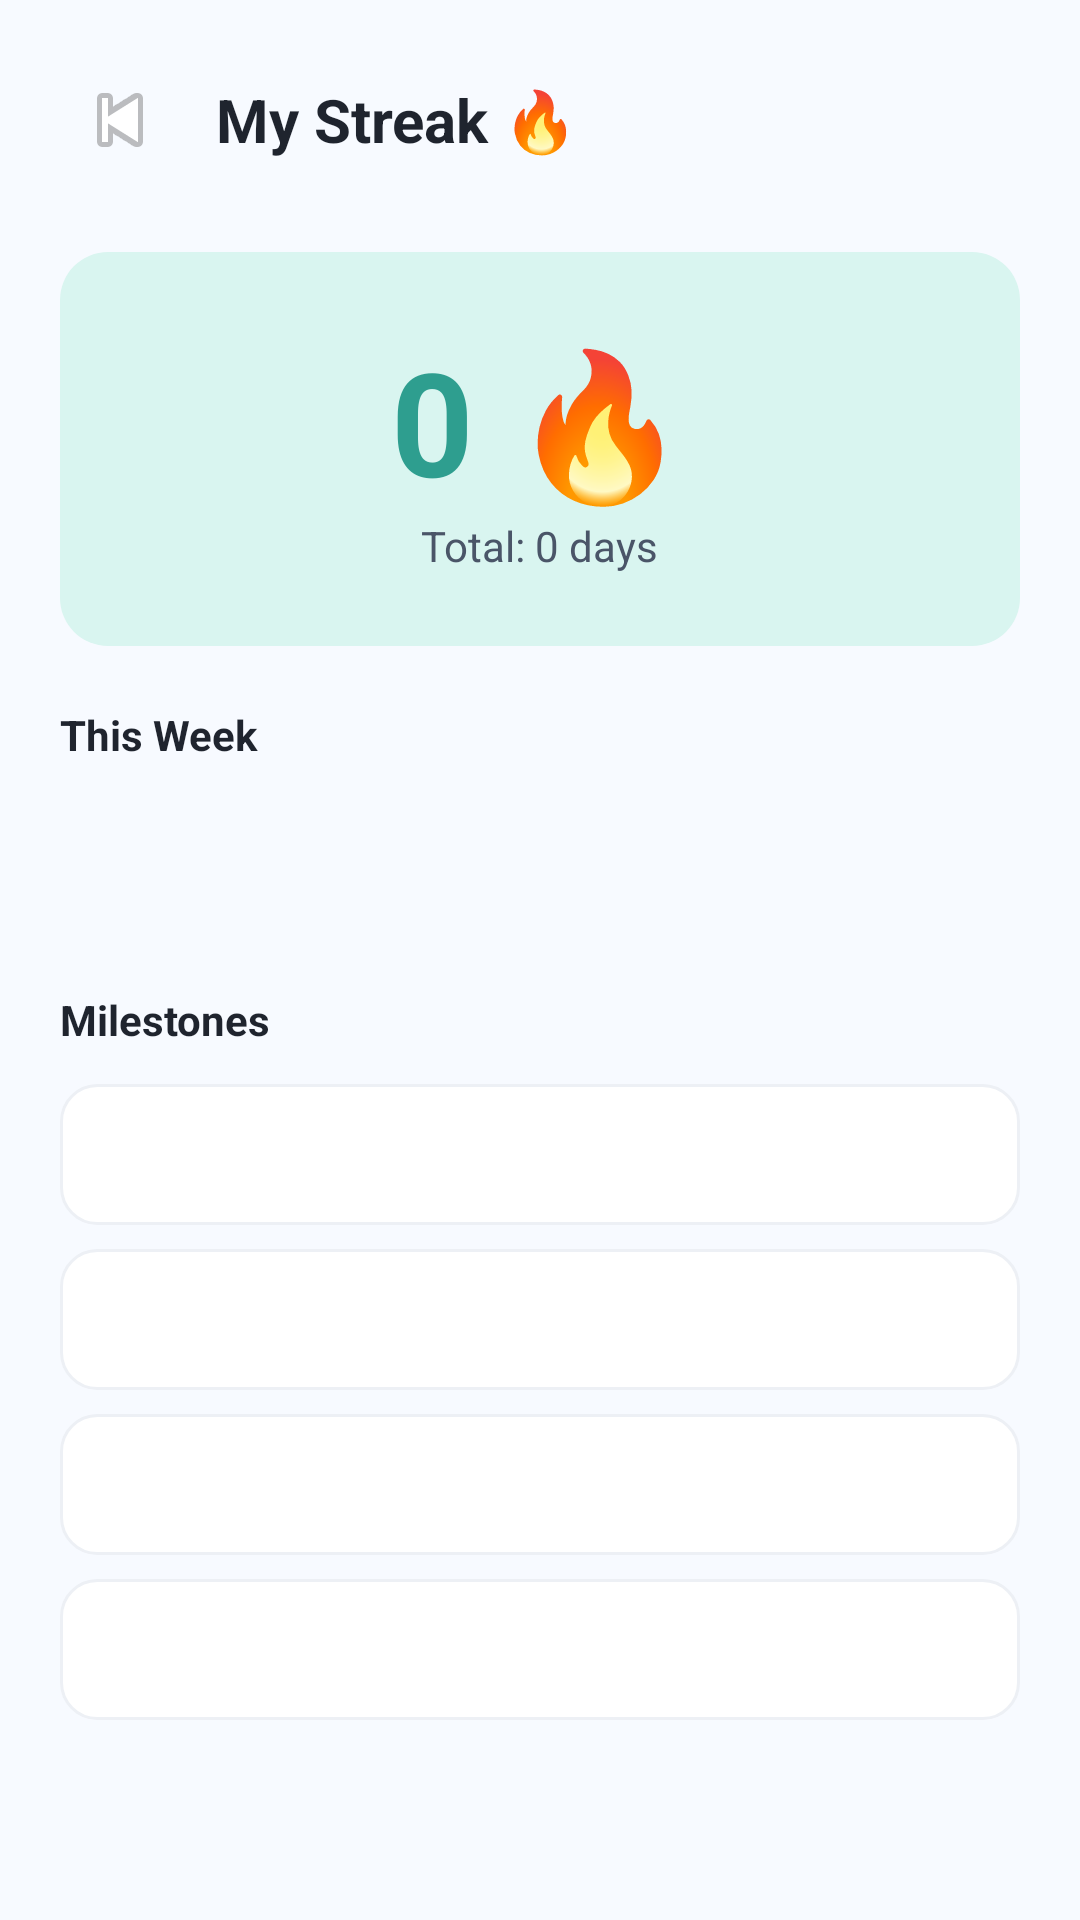

Point at icon controls on the screen. Image size 1080w x 1920h, points as (x,y).
Back: (120,120)
